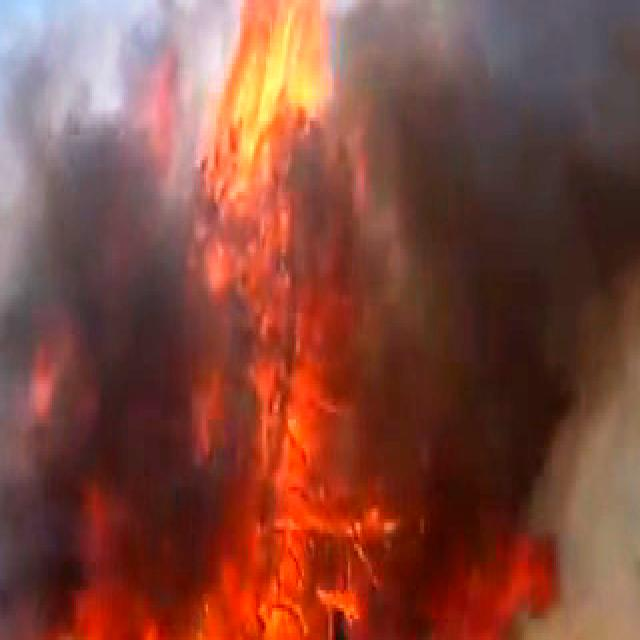fire: (70, 0, 562, 640)
smoke: (0, 53, 208, 630), (562, 0, 640, 640)
